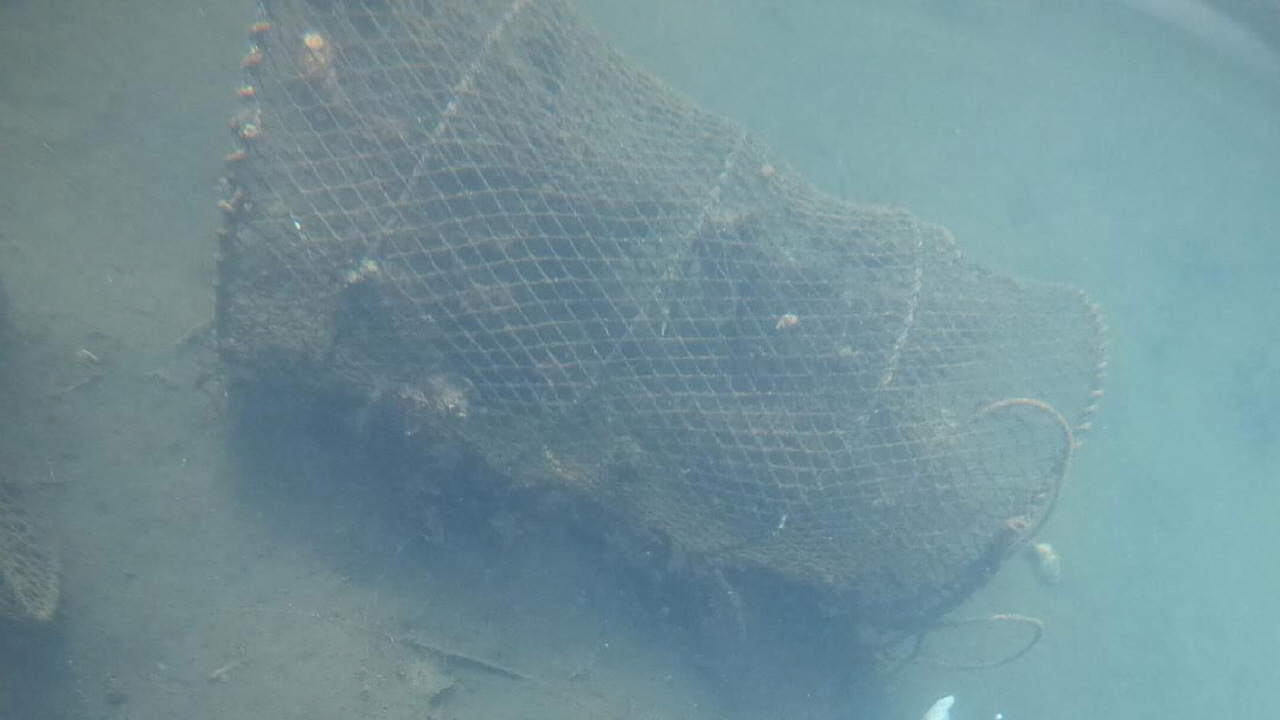rope: (910, 613, 1044, 669)
spring fish trap: (212, 0, 1112, 631)
